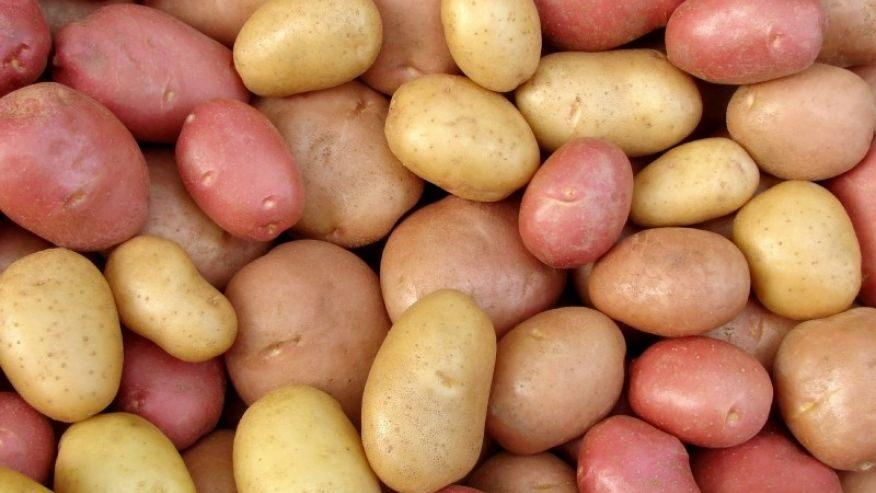peas: (1, 0, 873, 491)
potato: (732, 179, 862, 320)
